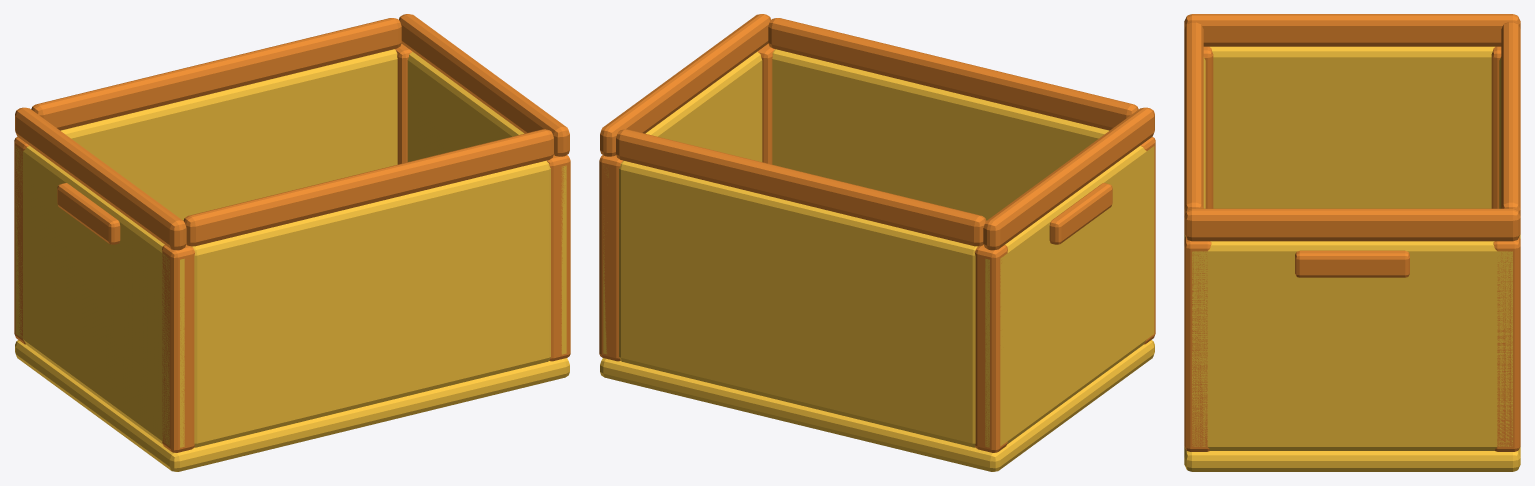
File: cargo_basket.glb
3 renders of one model, left to right at view 1: azimuth 30°, elevation 25°; view 2: azimuth 150°, elevation 25°; view 3: azimuth 270°, elevation 25°, orthographic. The views are drawn at different scales.
Parts seen in each view (by area): view 1: CargoBasket; view 2: CargoBasket; view 3: CargoBasket.
Boxes of the visible parts, x1=… form: CargoBasket: x1=14, y1=14, x2=570, y2=471; CargoBasket: x1=599, y1=14, x2=1155, y2=471; CargoBasket: x1=1184, y1=14, x2=1520, y2=471.
Size of the model in its own units: 0.524 by 0.3 by 0.35.
